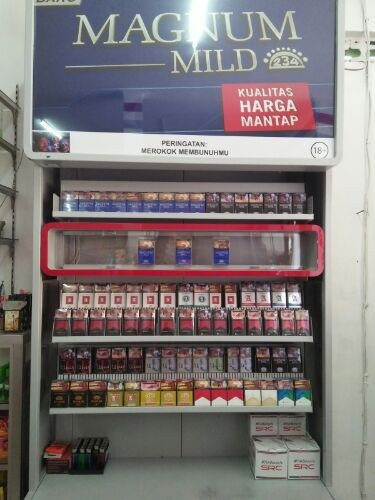A Mild 12: (210, 293, 221, 308), (225, 293, 236, 307)
A Mild 16: (61, 294, 78, 308), (127, 293, 142, 308), (143, 293, 158, 308), (160, 293, 175, 308), (94, 294, 110, 308), (79, 294, 94, 308), (111, 294, 125, 308)
A Mild Menthol 16: (194, 293, 210, 308), (179, 292, 193, 308)
Avolution Menthol 20: (288, 292, 301, 308), (273, 292, 286, 307)
Avolution Red 20: (257, 292, 271, 308), (242, 292, 255, 308)
Dji Sam Soe 16: (141, 391, 159, 405), (161, 390, 176, 406), (177, 391, 193, 406)
Magnum Filter 12: (249, 202, 264, 214), (220, 202, 235, 213), (292, 203, 307, 214), (235, 202, 249, 213), (277, 203, 292, 213), (206, 202, 219, 213), (264, 202, 277, 213)
Magnum Mild 12: (176, 249, 191, 268), (214, 249, 229, 267)
Magnum Mild 20: (139, 249, 155, 267), (110, 200, 127, 212), (60, 200, 78, 211), (94, 200, 110, 212), (159, 201, 175, 213), (175, 201, 190, 213), (190, 201, 205, 213), (78, 200, 94, 211), (142, 201, 158, 212), (127, 201, 143, 211)
Marlboro Black 20: (122, 318, 139, 336), (105, 319, 122, 335), (159, 319, 175, 336), (89, 319, 105, 335), (179, 319, 194, 336), (198, 319, 213, 336), (71, 320, 87, 335), (264, 320, 279, 336), (141, 319, 155, 336), (213, 319, 227, 336), (248, 319, 262, 336), (55, 319, 70, 334), (281, 320, 295, 335), (296, 320, 310, 335), (232, 320, 245, 336)
Marlboro Ice Burst 20: (295, 390, 311, 406), (278, 391, 295, 406)
Marlboro Light 20: (261, 390, 277, 405), (245, 390, 260, 405)
Marlboro Red 20: (227, 389, 244, 406), (194, 389, 210, 406), (211, 389, 227, 406)
Sampoerna Hijau 12: (107, 391, 123, 407), (124, 390, 139, 406)
U Mild Bold 16: (89, 392, 106, 407), (70, 393, 87, 407), (52, 393, 68, 407)
display-magnum: (36, 1, 337, 164)
